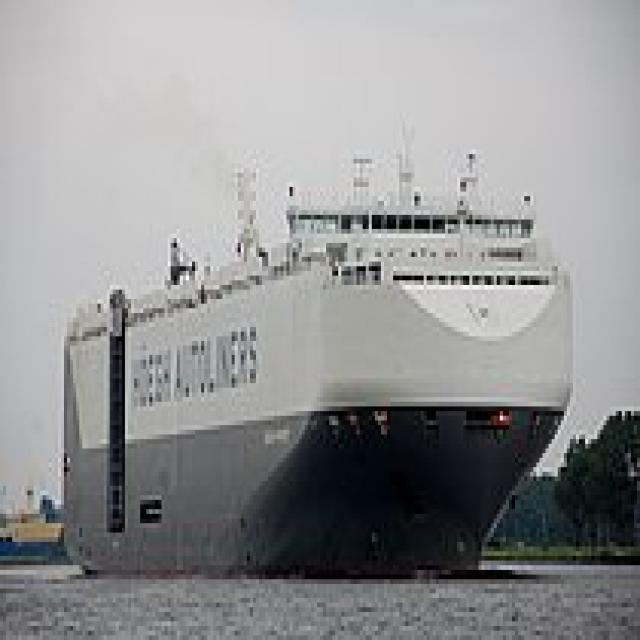Carrier: (55, 107, 576, 584)
